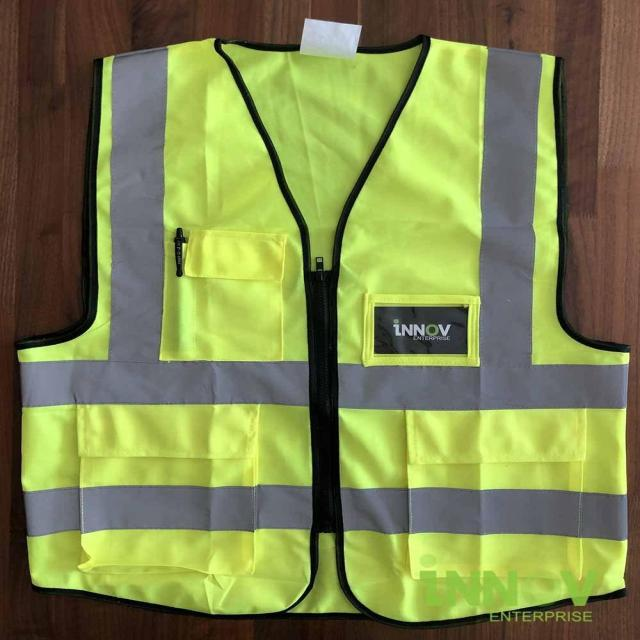vest: (13, 28, 630, 625)
